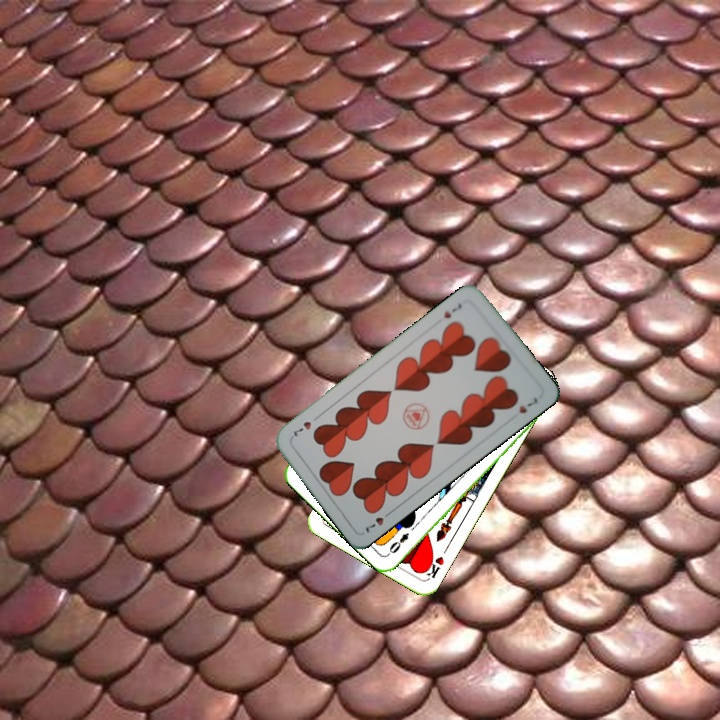EO: (383, 528, 412, 558)
H7: (359, 507, 395, 535), (440, 299, 465, 321)
HK: (419, 552, 447, 582)
